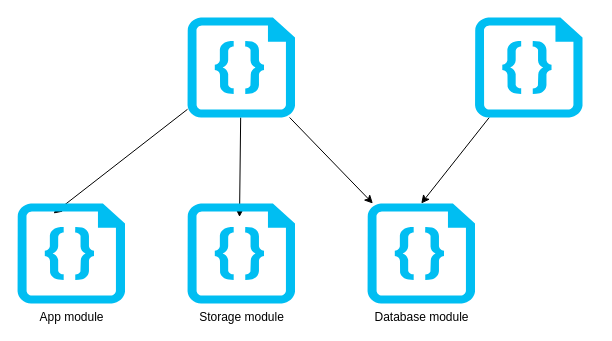
The diagram is 612 pixels wide and 341 high, and some of its shapes have lost their labels. Each missing label, with the box of its shape:
Deployment of solution 1: (187, 17, 294, 117)
Deployment of solution 2: (474, 17, 582, 117)
